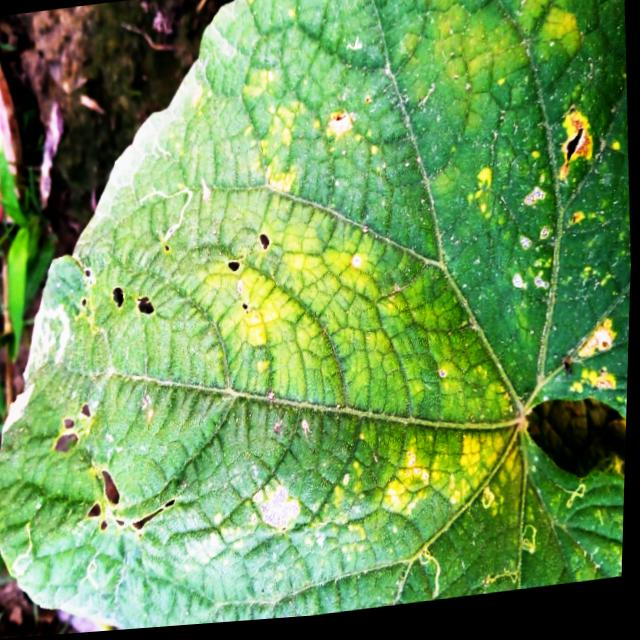Downy-Mildew: (52, 0, 632, 630)
